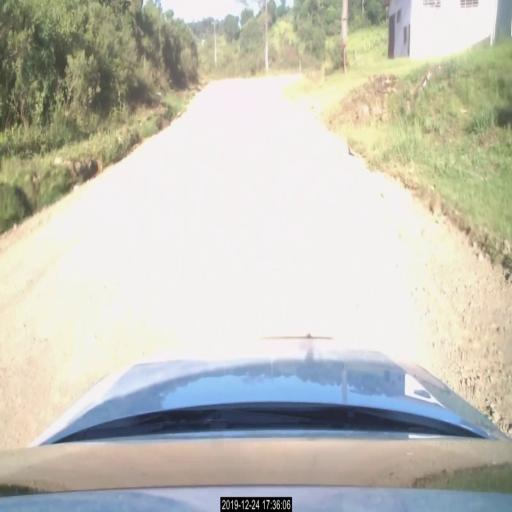Pothole: (436, 222, 488, 350)
